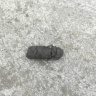Dog: (27, 45, 64, 61)
